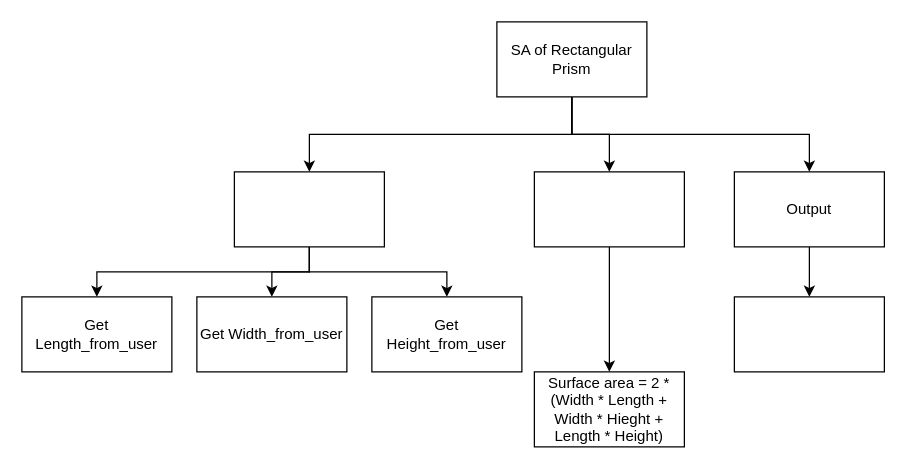
The diagram is 906 pixels wide and 469 high, and some of its shapes have lost their labels. Here are the shapes that lost their labels. From the top down, the centre of each, then its label:
point (308, 209): Input
point (608, 209): Process
point (808, 334): Show Surface Area
